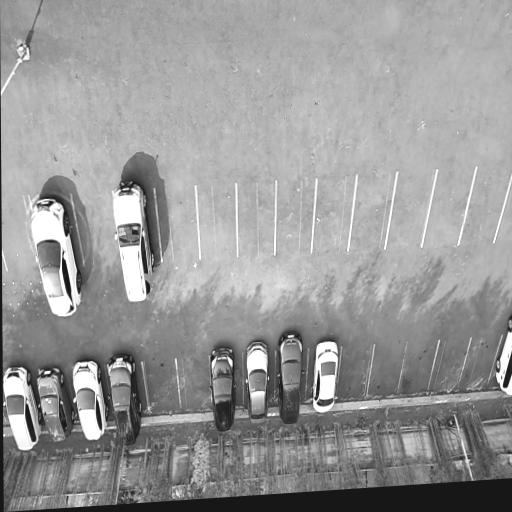Car: (26, 195, 89, 325), (110, 178, 160, 308), (105, 351, 147, 451), (3, 364, 48, 455), (33, 364, 79, 449), (70, 358, 112, 448), (276, 330, 306, 429), (208, 344, 237, 438), (310, 339, 341, 416), (244, 340, 270, 429), (490, 311, 512, 397)
Space Available: (422, 168, 475, 248), (460, 167, 512, 247), (386, 171, 436, 250), (349, 174, 396, 251), (71, 193, 119, 267), (312, 176, 356, 253), (155, 187, 199, 263), (196, 185, 237, 260), (276, 179, 316, 255), (237, 181, 275, 257), (2, 201, 37, 274), (458, 336, 502, 391), (428, 339, 471, 391), (398, 341, 439, 393), (367, 344, 407, 397), (141, 360, 181, 412), (337, 346, 374, 399), (176, 357, 211, 412)
